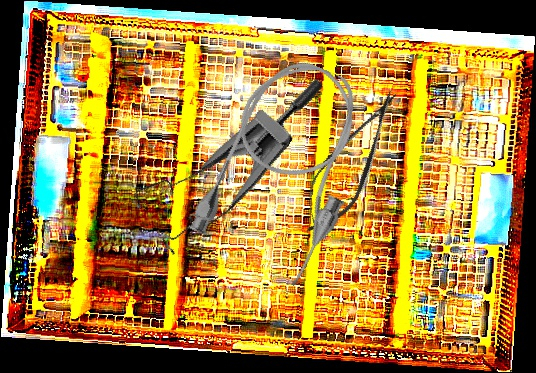Cannula: (182, 44, 391, 292)
Micro Scissor: (287, 77, 416, 245)
Speculum: (117, 28, 327, 277)
